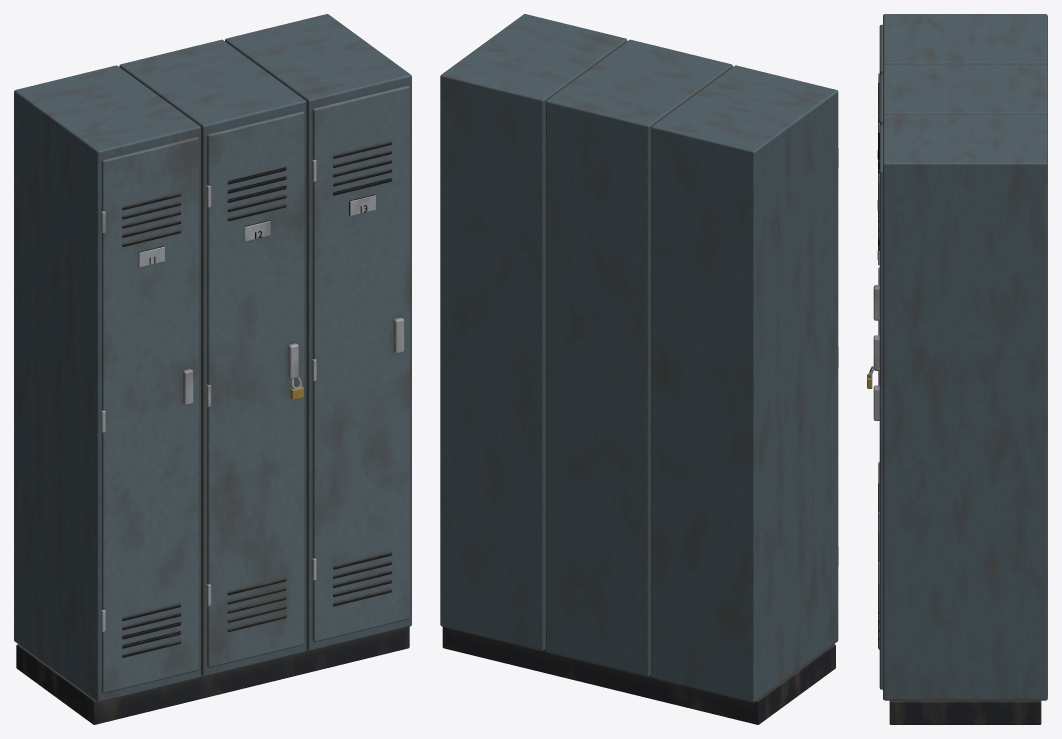
File: kom_szafa.glb
3 views of the same model, side by side, from view 1: azimuth 30°, elevation 25°; view 2: azimuth 150°, elevation 25°; view 3: azimuth 270°, elevation 25° (orthographic). The views are drawn at different scales.
Visible parts, largest first — view 1: Szafa; view 2: Szafa; view 3: Szafa.
Part boxes in pixels (bbox=[...]): Szafa: bbox=[14, 14, 411, 724]; Szafa: bbox=[440, 14, 838, 724]; Szafa: bbox=[867, 14, 1047, 724].
Bounding box in the file's own units: 1.08 × 1.88 × 0.548.
Materials: 2 (1 with a texture image).
